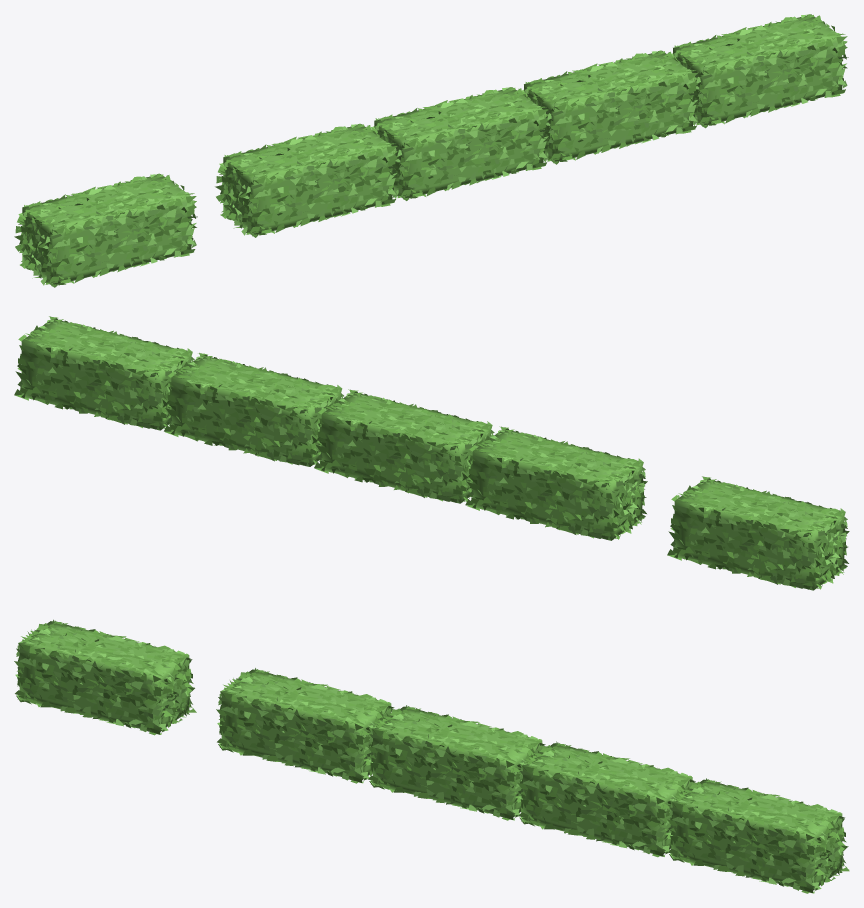
File: BUSH17.fbx
The picture shows the model from 3 angles, top to bottom: view 1: azimuth 30°, elevation 25°; view 2: azimuth 150°, elevation 25°; view 3: azimuth 330°, elevation 25°; orthographic projection.
Parts seen in each view (by area): view 1: Cube.566; view 2: Cube.566; view 3: Cube.566.
Boxes of the visible parts, left/top/right/bottom form: Cube.566: left=14, top=14, right=848, bottom=287; Cube.566: left=14, top=316, right=849, bottom=590; Cube.566: left=14, top=619, right=849, bottom=893.
Size of the model in its own units: 17636 by 1310 by 1308.
